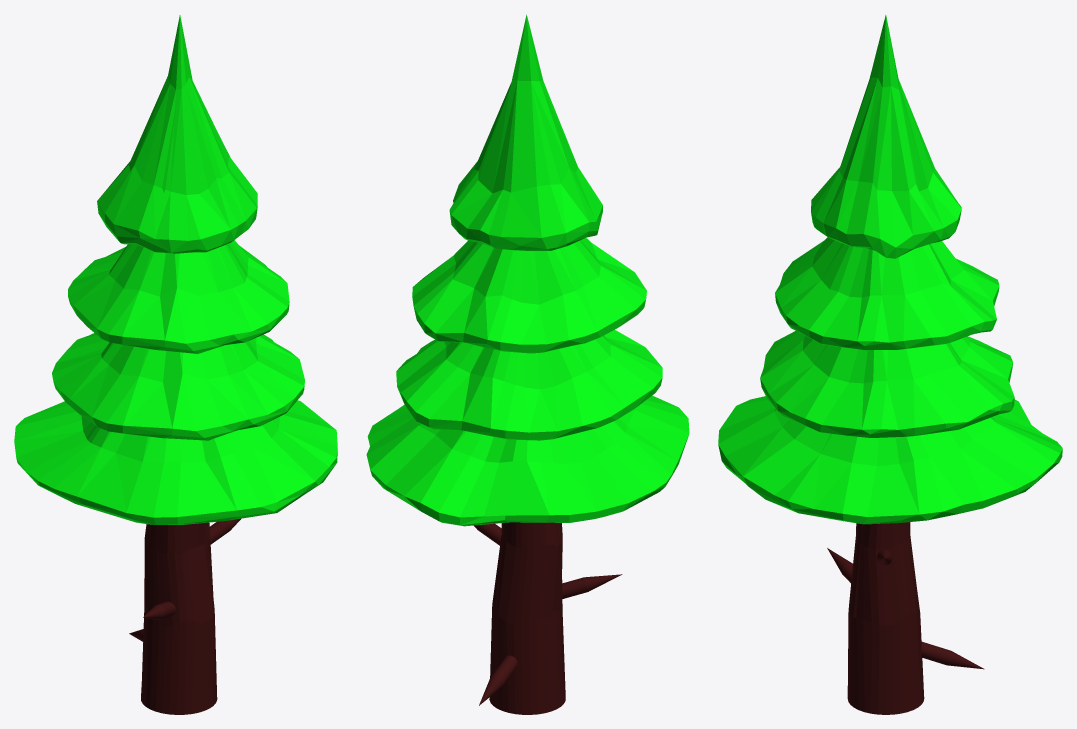
Rendered from Arbre2.fbx.
The picture shows the model from 3 angles, left to right: view 1: azimuth 30°, elevation 25°; view 2: azimuth 150°, elevation 25°; view 3: azimuth 270°, elevation 25°; orthographic projection.
Visible parts, largest first — view 1: Feuilles_LOD0, Tronc_LOD0; view 2: Feuilles_LOD0, Tronc_LOD0; view 3: Feuilles_LOD0, Tronc_LOD0.
Part boxes in pixels (<box>): Feuilles_LOD0: <box>14,15,337,524</box>; Tronc_LOD0: <box>129,518,240,714</box>; Feuilles_LOD0: <box>366,14,689,526</box>; Tronc_LOD0: <box>474,522,622,714</box>; Feuilles_LOD0: <box>718,15,1062,524</box>; Tronc_LOD0: <box>827,522,984,714</box>.
Size of what is drawn, in the model's own units: 841 by 1975 by 900.
